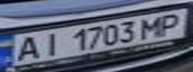0: (103, 21, 124, 47)
1: (66, 26, 90, 52)
3: (118, 18, 142, 43)
7: (84, 24, 106, 49)
A: (6, 34, 45, 63)
I: (33, 30, 66, 57)
M: (136, 15, 169, 39)
P: (154, 11, 190, 37)
